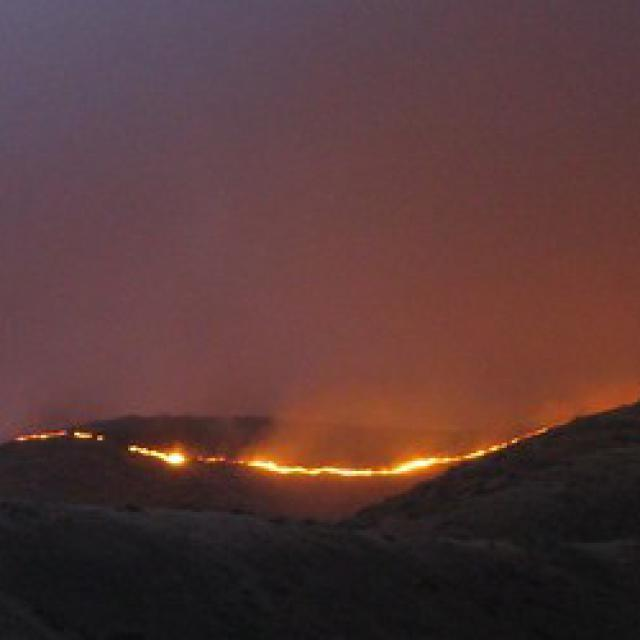Fire: (464, 418, 550, 470), (196, 454, 381, 476), (9, 422, 108, 449), (390, 450, 460, 476), (126, 445, 186, 465)
Smoke: (0, 0, 640, 420)
